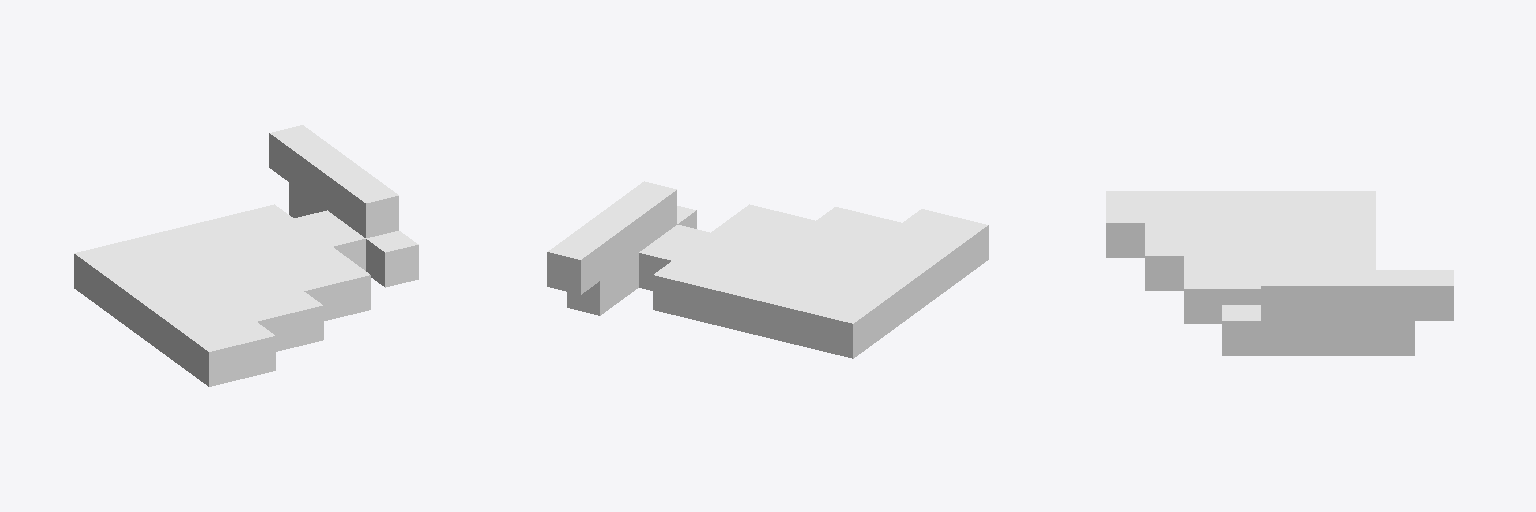
Rendered from Extra-5-InfraredFurtive_Wing2_L.obj.
The picture shows the model from 3 angles: view 1: azimuth 30°, elevation 25°; view 2: azimuth 150°, elevation 25°; view 3: azimuth 270°, elevation 25°; orthographic projection.
Parts seen in each view (by area): view 1: InfraredFurtive_Wing2_L; view 2: InfraredFurtive_Wing2_L; view 3: InfraredFurtive_Wing2_L.
Part boxes in pixels (bbox=[...]): InfraredFurtive_Wing2_L: bbox=[74, 125, 418, 386]; InfraredFurtive_Wing2_L: bbox=[547, 181, 988, 358]; InfraredFurtive_Wing2_L: bbox=[1106, 191, 1453, 355].
Bounding box in the file's own units: 0.8 × 0.2 × 0.9.